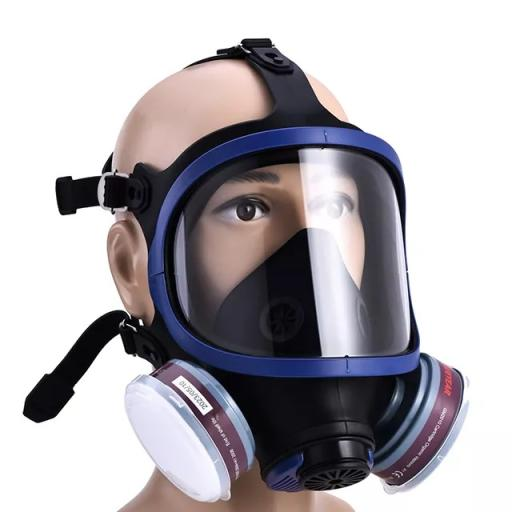mask: (123, 109, 472, 509)
